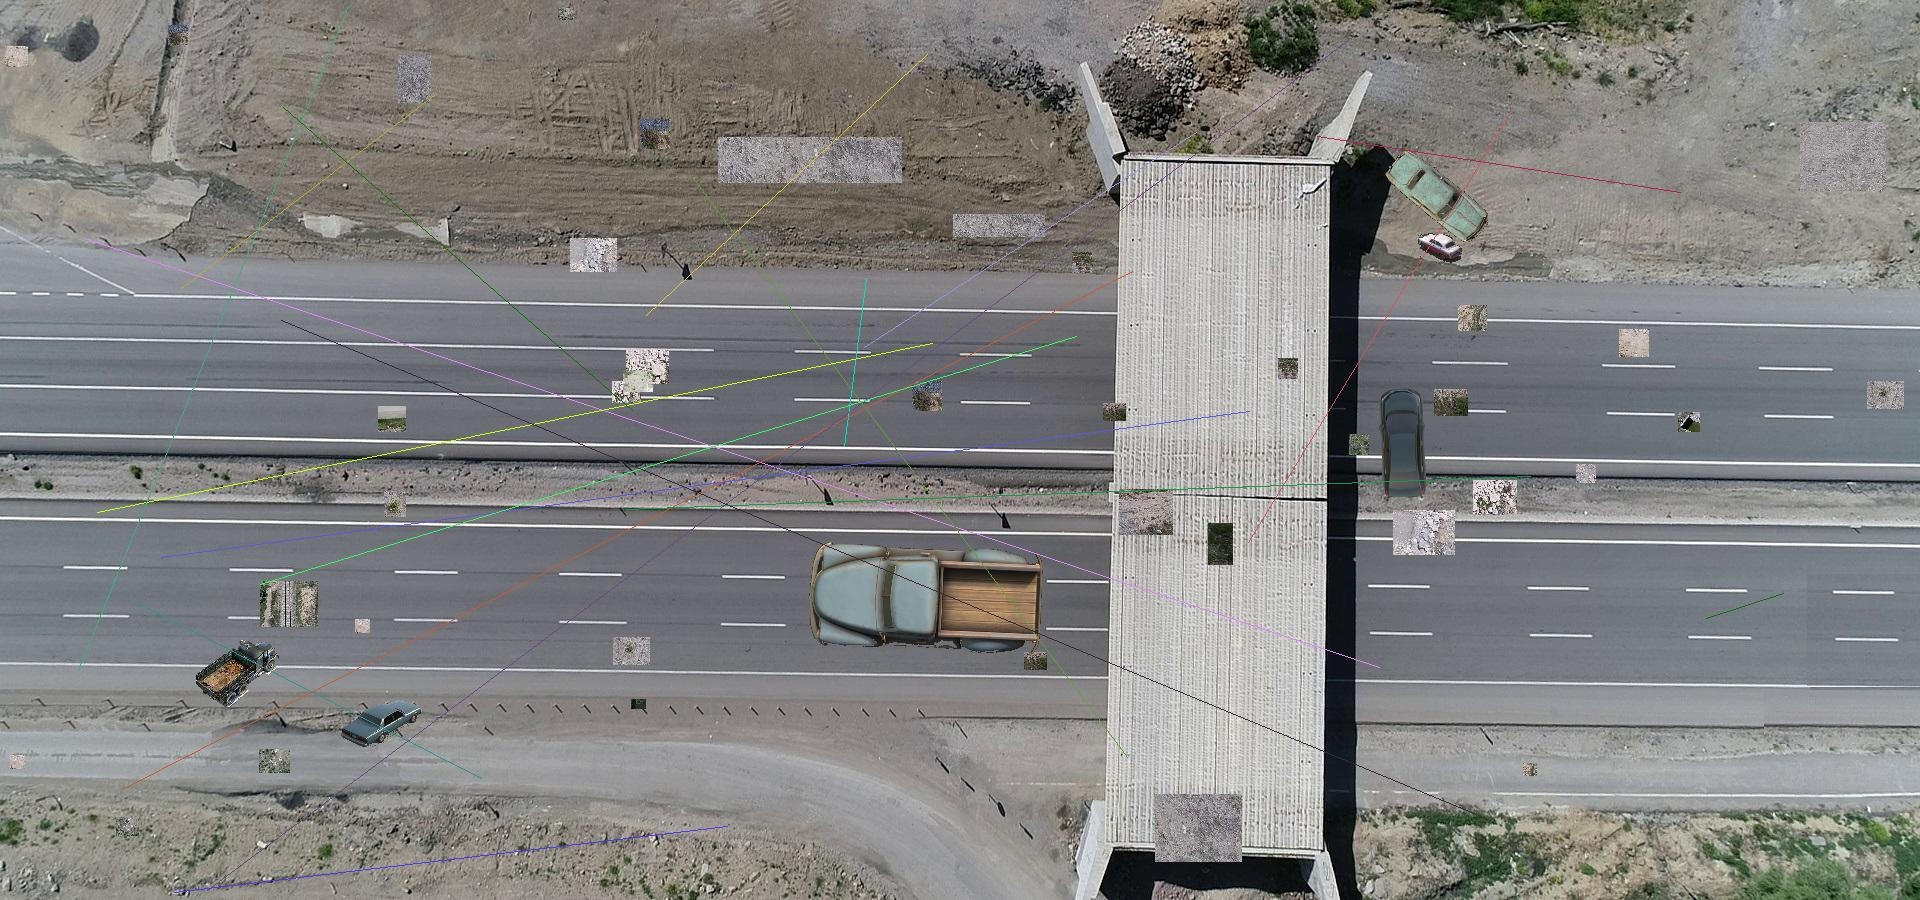arac: (808, 542, 1044, 656), (1381, 141, 1491, 242), (1369, 384, 1430, 497), (196, 636, 280, 707), (337, 699, 422, 747), (1418, 231, 1464, 263)
